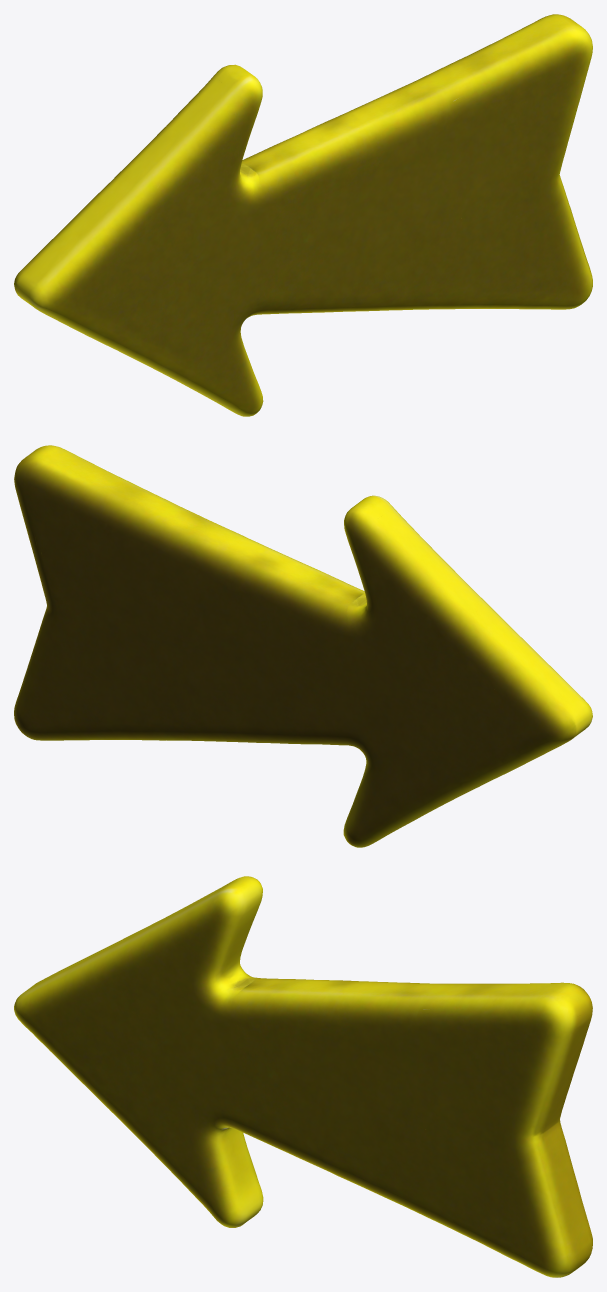
Rendered from Arrow.fbx.
3 renders of one model, top to bottom at view 1: azimuth 30°, elevation 25°; view 2: azimuth 150°, elevation 25°; view 3: azimuth 330°, elevation 25°, orthographic.
Parts seen in each view (by area): view 1: Mesh_0; view 2: Mesh_0; view 3: Mesh_0.
Boxes of the visible parts, box(x1,y1,x2,y2) form: Mesh_0: box(14, 14, 592, 416); Mesh_0: box(14, 445, 592, 847); Mesh_0: box(14, 876, 592, 1277).
Bounding box in the file's own units: 200 × 116 × 22.03.
1 material, 1 textured.
